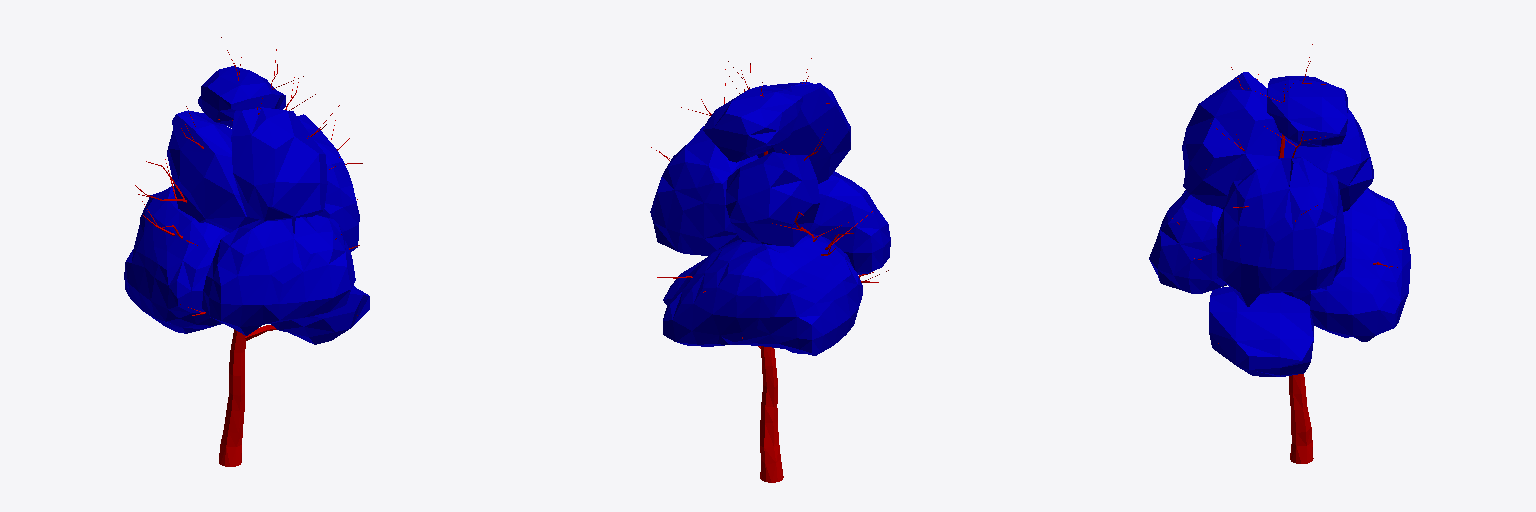
File: test_tree.obj
The picture shows the model from 3 angles: view 1: azimuth 30°, elevation 25°; view 2: azimuth 150°, elevation 25°; view 3: azimuth 270°, elevation 25°; orthographic projection.
Parts seen in each view (by area): view 1: tree; view 2: tree; view 3: tree.
Boxes of the visible parts, <box> form: tree: <box>124,37,369,466</box>; tree: <box>650,58,890,482</box>; tree: <box>1149,44,1410,463</box>.
Size of the model in its own units: 12.41 by 24.42 by 13.8.